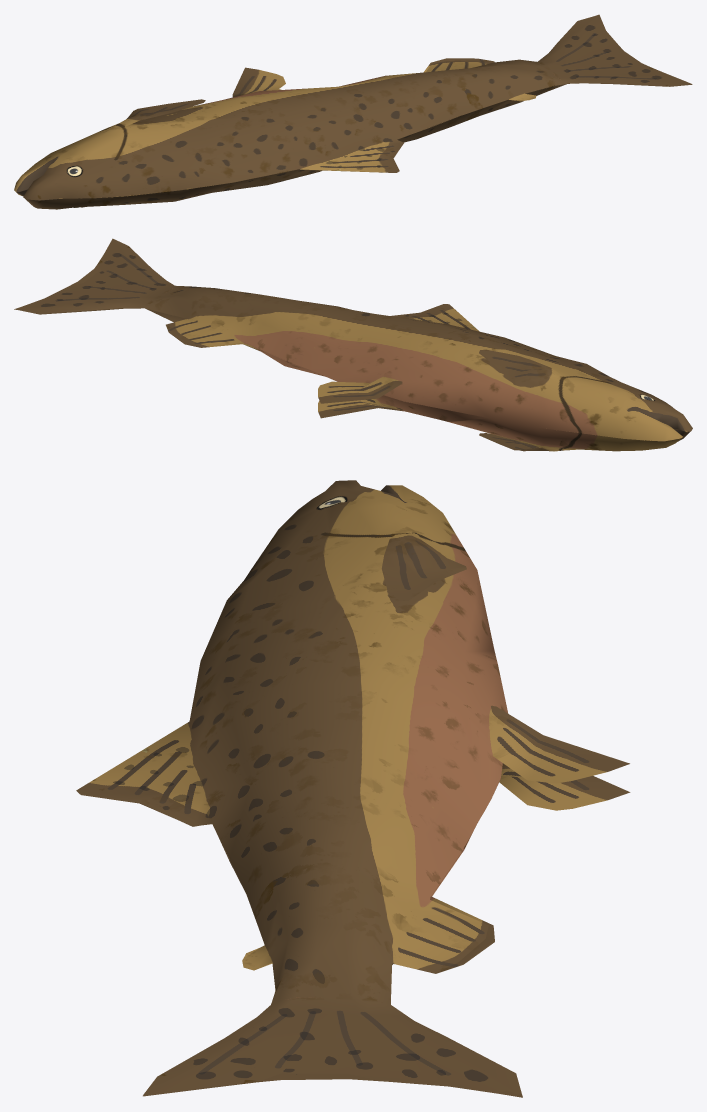
Rendered from chinookSalmon00.fbx.
3 views of the same model, one above another, from view 1: azimuth 30°, elevation 25°; view 2: azimuth 150°, elevation 25°; view 3: azimuth 270°, elevation 25° (orthographic). The views are drawn at different scales.
Parts seen in each view (by area): view 1: ChinookSalmon_final; view 2: ChinookSalmon_final; view 3: ChinookSalmon_final.
Part boxes in pixels (x1=…): ChinookSalmon_final: x1=14, y1=14, x2=692, y2=209; ChinookSalmon_final: x1=14, y1=238, x2=692, y2=451; ChinookSalmon_final: x1=76, y1=480, x2=630, y2=1097.
Bounding box in the file's own units: 2.84 × 0.3577 × 1.1.
Materials: 1 (1 with a texture image).
